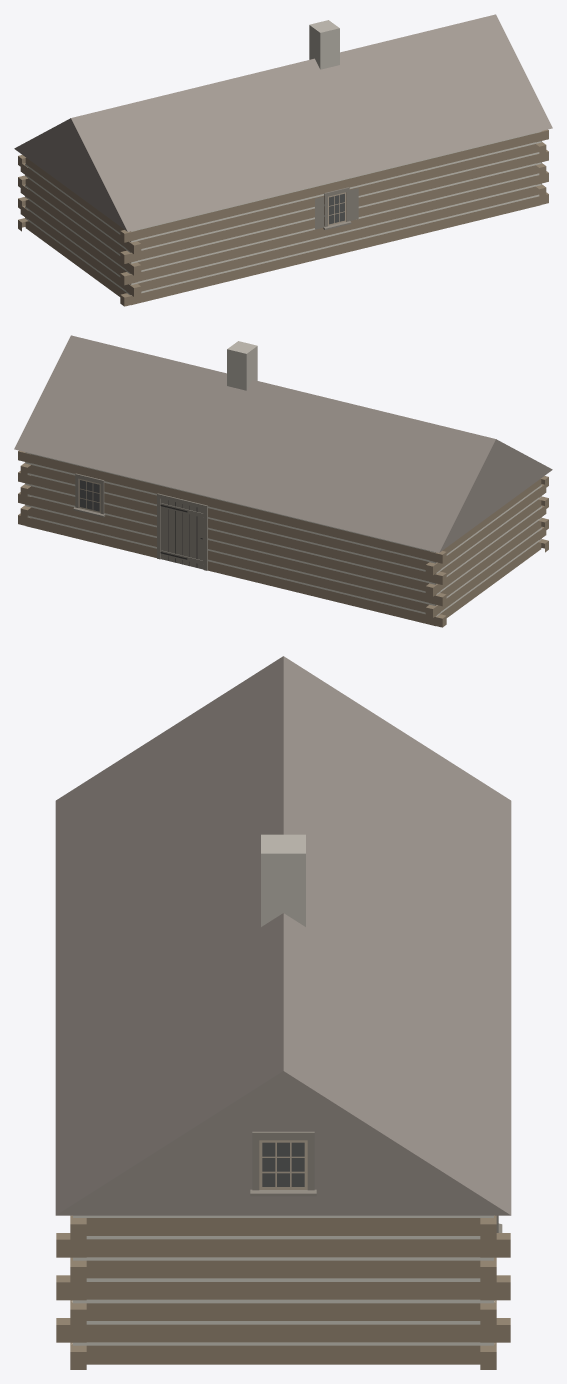
File: hogan_store__log_1831.glb
The picture shows the model from 3 angles, top to bottom: view 1: azimuth 30°, elevation 25°; view 2: azimuth 150°, elevation 25°; view 3: azimuth 270°, elevation 25°; orthographic projection. The views are drawn at different scales.
Visible parts, largest first — view 1: hogan_store__log_1831; view 2: hogan_store__log_1831; view 3: hogan_store__log_1831.
Boxes of the visible parts, box(x1,y1,x2,y2) form: hogan_store__log_1831: box(14, 14, 552, 306); hogan_store__log_1831: box(14, 335, 552, 627); hogan_store__log_1831: box(55, 656, 511, 1369).
Size of the model in its own units: 14.38 by 5.76 by 6.6.
